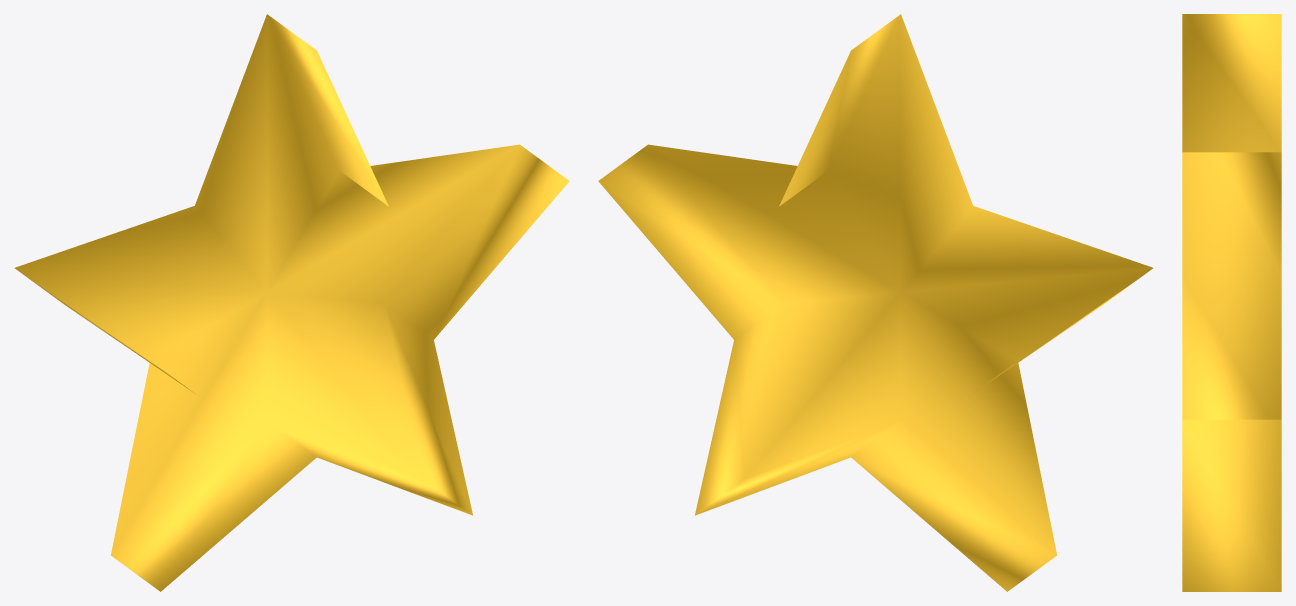
Rendered from star.glb.
The picture shows the model from 3 angles, left to right: view 1: azimuth 30°, elevation 25°; view 2: azimuth 150°, elevation 25°; view 3: azimuth 270°, elevation 25°; orthographic projection.
Visible parts, largest first — view 1: star; view 2: star; view 3: star.
Part boxes in pixels (<box>): star: <box>14,14,569,591</box>; star: <box>598,14,1153,591</box>; star: <box>1182,14,1281,591</box>.
Bounding box in the file's own units: 0.7608 × 0.7236 × 0.13.
